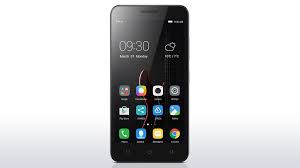lenovo: (107, 3, 191, 164)
